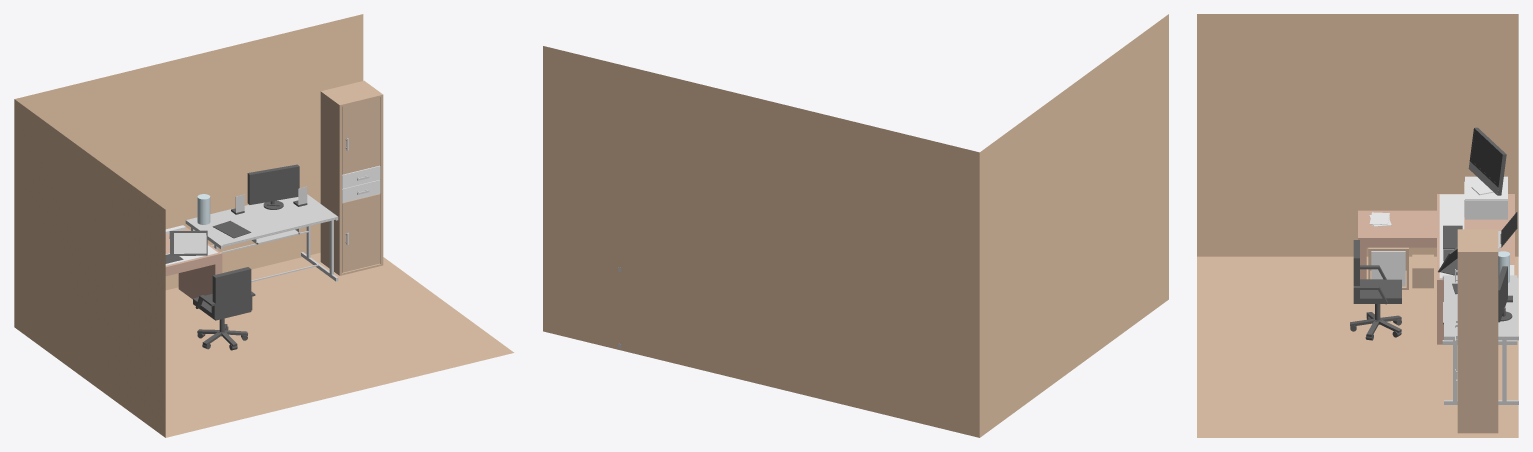
Rendered from study_room.glb.
3 renders of one model, left to right at view 1: azimuth 30°, elevation 25°; view 2: azimuth 150°, elevation 25°; view 3: azimuth 270°, elevation 25°, orthographic. The views are drawn at different scales.
Parts seen in each view (by area): view 1: Plane.002_2, Plane_0, Plane.001_1, Cube.078_81, Cube.023_27, Cube.008_78, Cube.080_82, Cube.039_42, Cube.127_128, Cube.002_5, Cube.083_85, Cube_3 (+4 smaller); view 2: Plane.002_2, Plane.001_1; view 3: Plane.001_1, Plane_0, Cube.084_86, Cube.001_4, Cube.023_27, Cube_3, Cube.147_157, Cube.012_15, Cube.083_85, Cube.069_72, Cube.007_10, Cube.128_129 (+6 smaller).
Part boxes in pixels (box(x1,y1,x2,y2)): Plane.002_2: box(14, 14, 363, 290); Plane_0: box(165, 252, 514, 437); Plane.001_1: box(14, 99, 165, 437); Cube.078_81: box(320, 91, 341, 273); Cube.023_27: box(188, 196, 335, 245); Cube.008_78: box(342, 194, 380, 272); Cube.080_82: box(342, 97, 380, 174); Cube.039_42: box(247, 164, 299, 204); Cube.127_128: box(212, 267, 251, 314); Cube.002_5: box(178, 262, 222, 299); Cube.083_85: box(320, 80, 383, 106); Cube_3: box(165, 227, 222, 276); Plane.002_2: box(543, 46, 979, 437); Plane.001_1: box(979, 14, 1168, 437); Plane.001_1: box(1197, 14, 1518, 256); Plane_0: box(1197, 256, 1518, 437); Cube.084_86: box(1457, 251, 1498, 431); Cube.001_4: box(1358, 210, 1436, 247); Cube.023_27: box(1444, 276, 1517, 335); Cube_3: box(1437, 194, 1514, 289); Cube.147_157: box(1471, 127, 1506, 195); Cube.012_15: box(1439, 194, 1464, 278); Cube.083_85: box(1457, 229, 1498, 253); Cube.069_72: box(1371, 251, 1405, 286); Cube.007_10: box(1465, 200, 1507, 219); Cube.128_129: box(1353, 279, 1401, 303).
Size of the model in its own units: 4 by 2.5 by 3.
